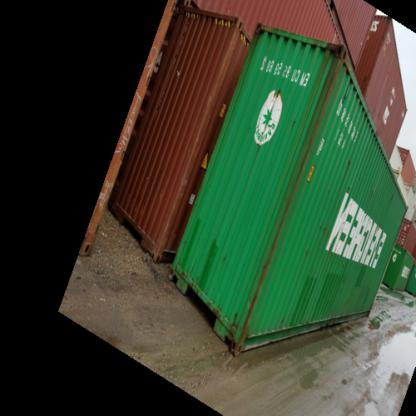Damage: (238, 182, 300, 344), (290, 41, 345, 181)
